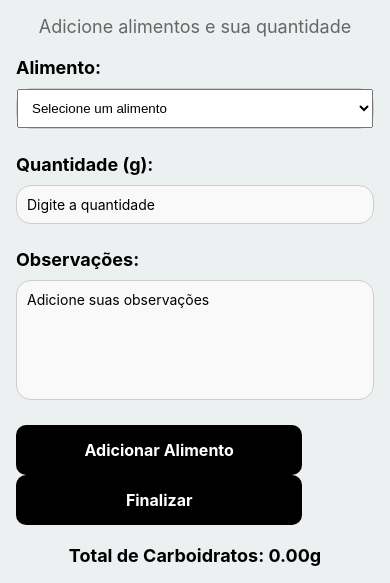
Test: renders correctly and calculates carbohydrates
Expected: the text "Adicione alimentos e sua quantidade" is shown, x1=16 y1=16 x2=374 y2=37
Expected: the text "Adicionar Alimento" is shown, x1=84 y1=440 x2=234 y2=460
Select "Arroz" in the dropdown with test id "picker" at (195, 108), box x1=17 y1=89 x2=373 y2=128
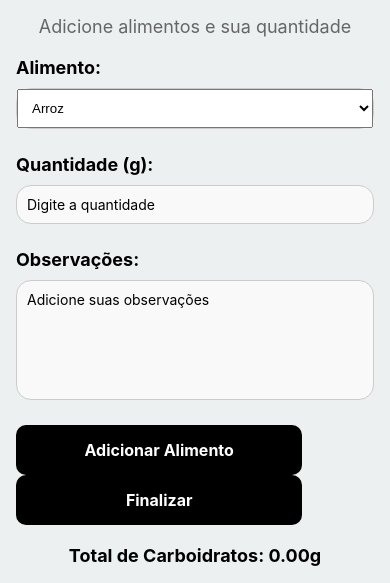
Type "100" into the field with placeholder "Digite a quantidade" at (195, 204), box x1=16 y1=185 x2=374 y2=224
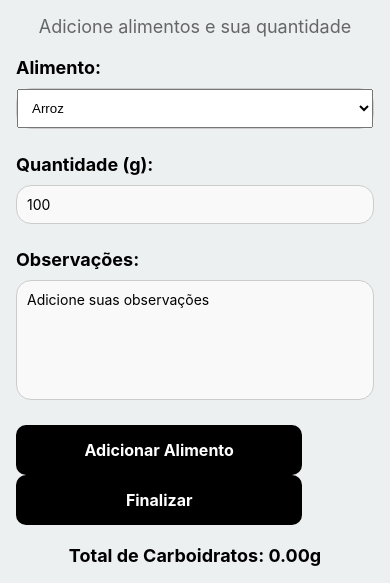
Click the text "Adicionar Alimento" at (159, 450), box x1=84 y1=440 x2=234 y2=460
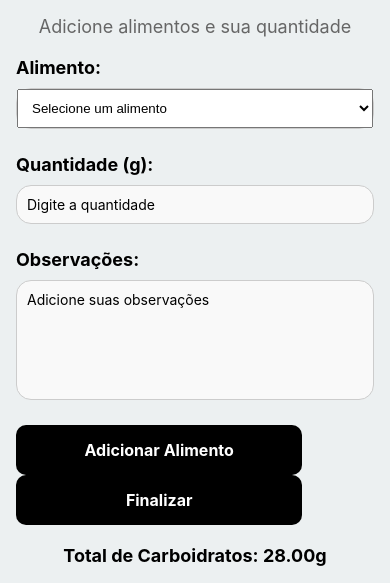
Expected: the text "Total de Carboidratos: 28.00g" is shown, x1=63 y1=545 x2=327 y2=566
